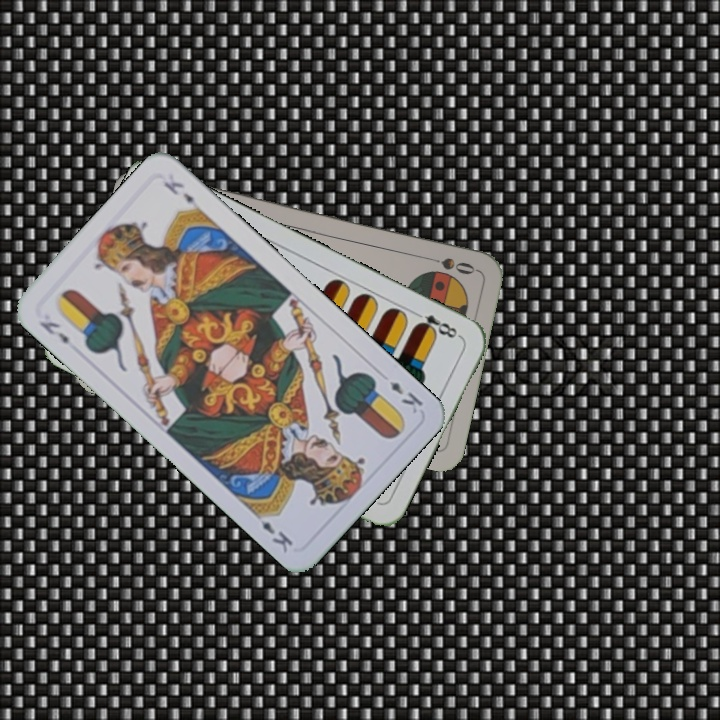E8: (409, 307, 464, 341)
EK: (386, 377, 426, 416), (35, 317, 72, 347)
SO: (420, 252, 479, 278)
